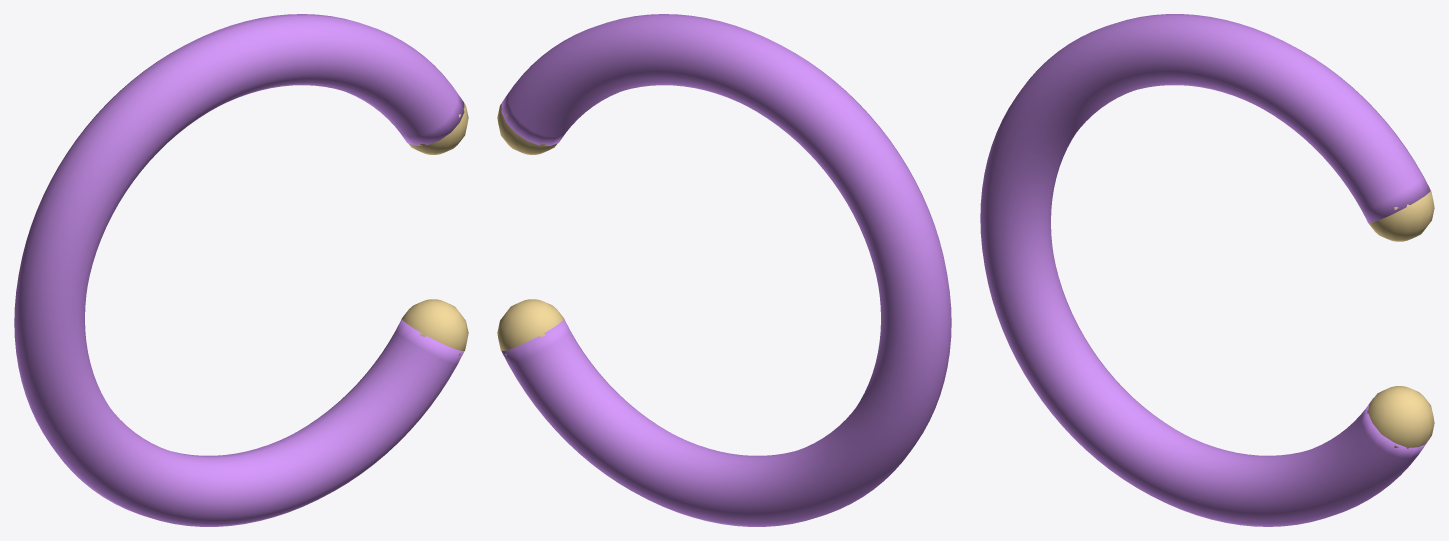
The model's file is arc-BVSvQ4eJ.glb.
3 renders of one model, left to right at view 1: azimuth 30°, elevation 25°; view 2: azimuth 150°, elevation 25°; view 3: azimuth 330°, elevation 25°, orthographic.
Visible parts, largest first — view 1: R3D_arc_Body_0, R3D_arc_Tip_1, R3D_arc_Tip_0; view 2: R3D_arc_Body_0, R3D_arc_Tip_1, R3D_arc_Tip_0; view 3: R3D_arc_Body_0, R3D_arc_Tip_1, R3D_arc_Tip_0.
Part boxes in pixels (x1,y1,x2,y2): R3D_arc_Body_0: [14, 14, 464, 526]; R3D_arc_Tip_1: [401, 299, 468, 355]; R3D_arc_Tip_0: [408, 103, 468, 154]; R3D_arc_Body_0: [501, 14, 951, 526]; R3D_arc_Tip_1: [497, 299, 564, 355]; R3D_arc_Tip_0: [497, 103, 557, 154]; R3D_arc_Body_0: [980, 14, 1430, 526]; R3D_arc_Tip_1: [1367, 386, 1434, 448]; R3D_arc_Tip_0: [1368, 189, 1434, 241].
Bounding box in the file's own units: 1.73 × 1.84 × 0.24.
